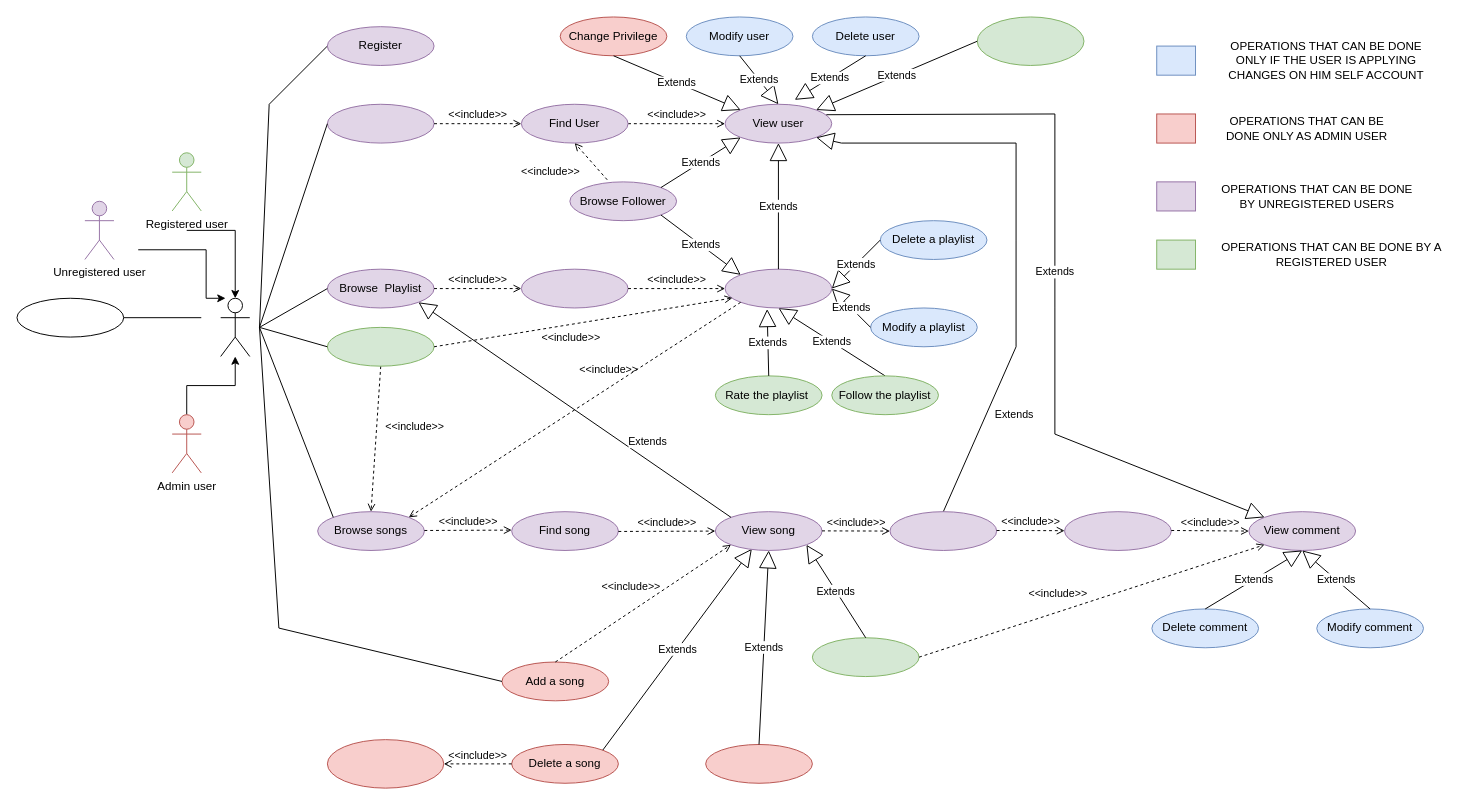
Some shapes in this 1465 by 805 pixel diagram are drawn without their labels. Here are the shapes that lost their labels. From the top down, the box of each, then its label:
(976, 16, 1084, 65): Follow/Unfollow user
(326, 103, 434, 143): Browse User
(520, 268, 628, 308): Find Playlist
(724, 268, 832, 308): View playlist
(16, 297, 124, 337): Login/Logout
(220, 297, 250, 356): User
(326, 326, 434, 366): Add playlist
(889, 511, 997, 550): Browse comments
(1064, 511, 1171, 550): Find comment
(811, 637, 919, 677): Add a comment
(326, 739, 444, 788): Remove the song from playlists
(705, 744, 812, 783): Modify a song
